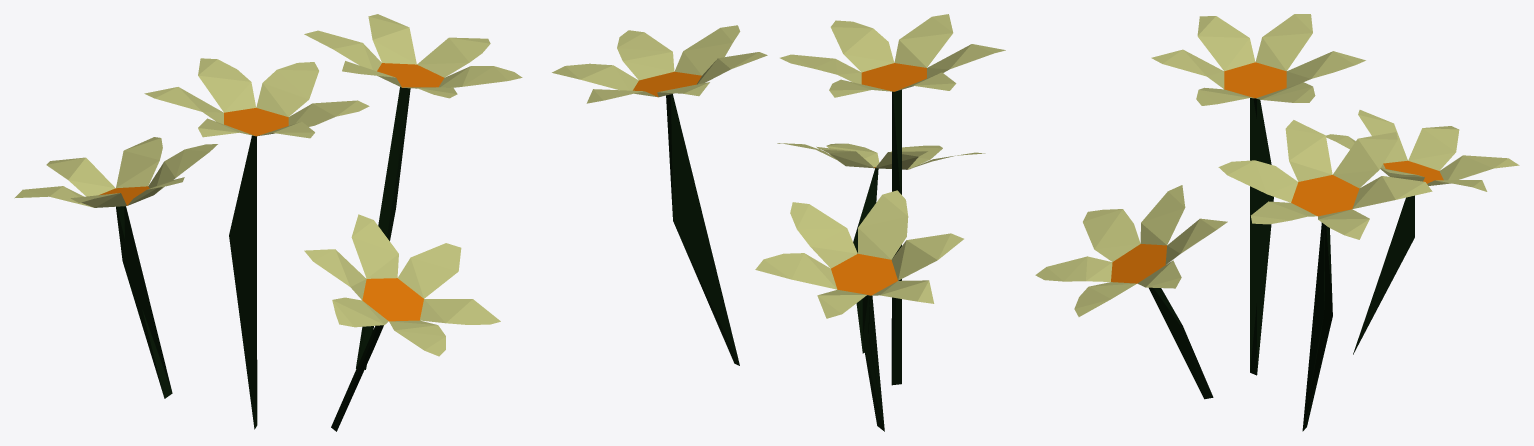
File: enchantedforest_flower_3.glb
The picture shows the model from 3 angles, left to right: view 1: azimuth 30°, elevation 25°; view 2: azimuth 150°, elevation 25°; view 3: azimuth 270°, elevation 25°; orthographic projection. The views are drawn at different scales.
Visible parts, largest first — view 1: Cylinder.006.1; view 2: Cylinder.006.1; view 3: Cylinder.006.1.
Boxes of the visible parts, x1,y1,x2,y2 form: Cylinder.006.1: [14, 14, 522, 431]; Cylinder.006.1: [552, 14, 1005, 431]; Cylinder.006.1: [1035, 14, 1519, 431].
Size of the model in its own units: 0.6738 by 0.5031 by 0.6856.
